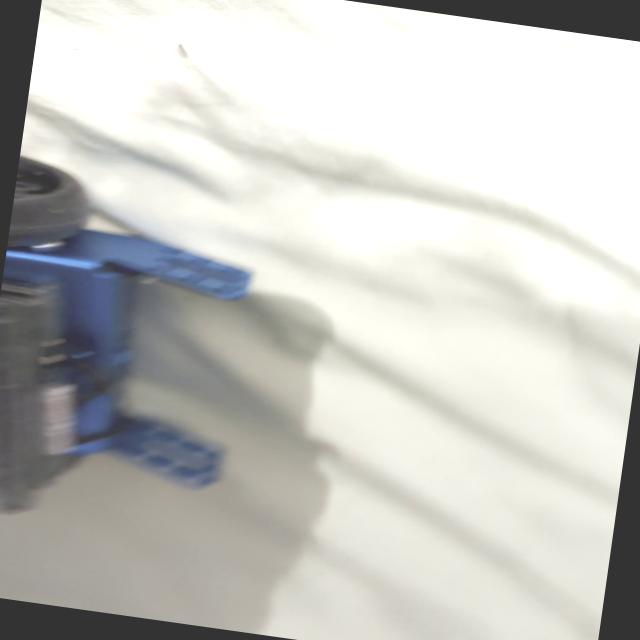mbot-detection: (0, 149, 286, 558)
